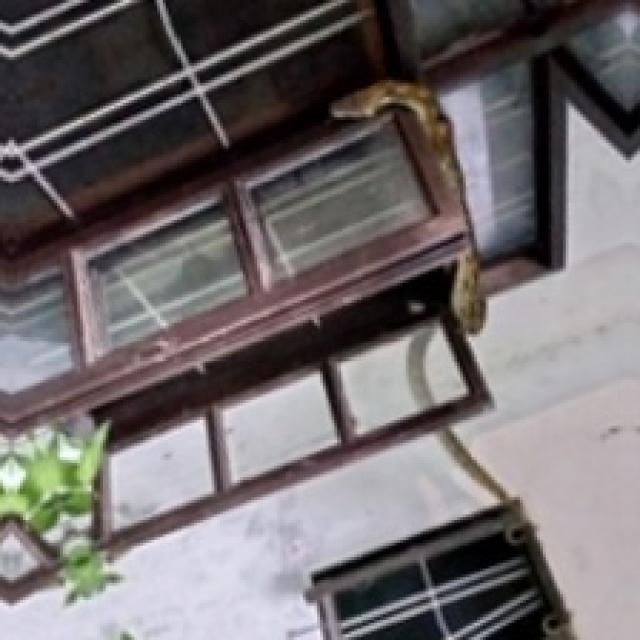reticulated python: (330, 80, 465, 207), (442, 429, 509, 502), (450, 245, 486, 333), (450, 246, 486, 333), (405, 324, 434, 408)
